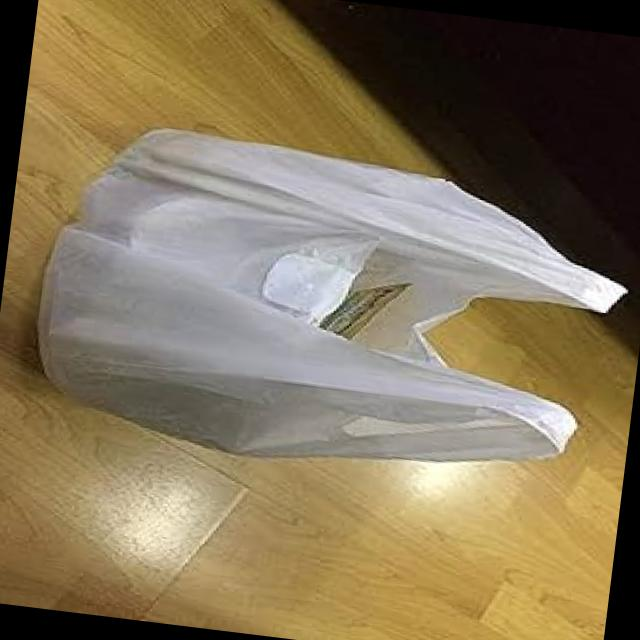plastic_bag: (0, 125, 640, 536)
